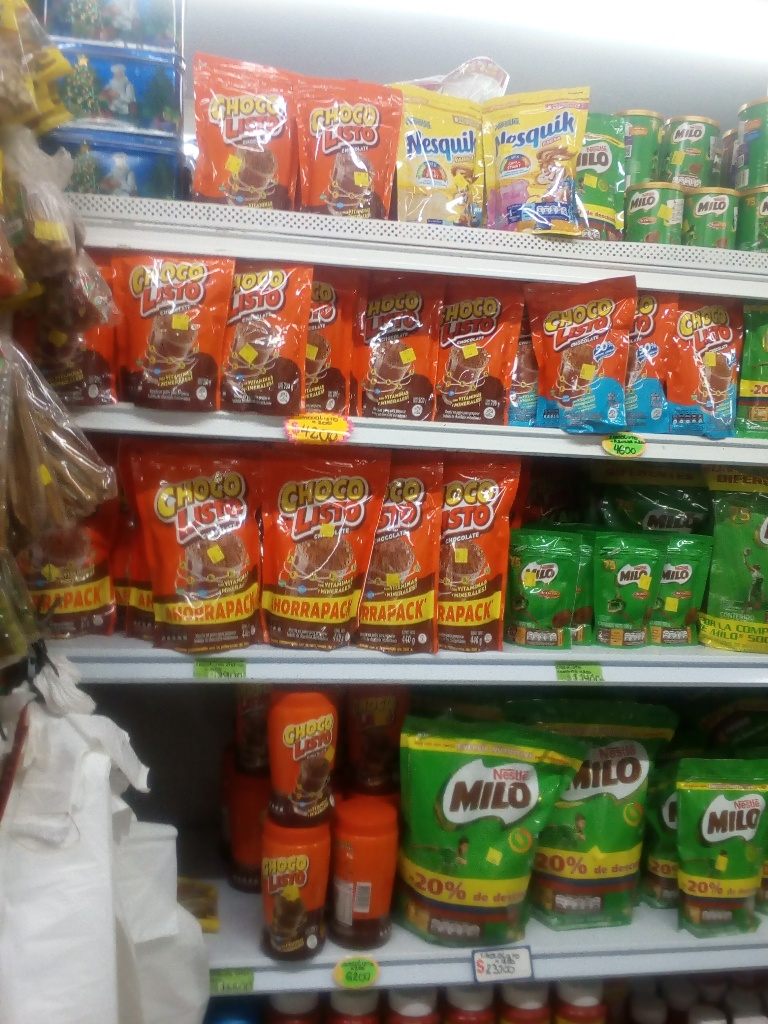COL0170103DYP44000: (119, 444, 256, 652)
COL0170103TRR30000: (264, 686, 338, 822)
COL0170104DYP20000: (514, 282, 626, 432)
COL0170203DYP10000: (516, 524, 579, 656)
COL0170203DYP25000: (655, 740, 767, 943)
COL0170203DYP50000: (699, 472, 761, 655)
COL0170203LAT20000: (613, 108, 659, 184)
COL0170305DYP20000: (481, 79, 580, 235)
COL0170306DYP20000: (396, 82, 483, 219)
